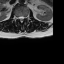CCS_normal: (20, 14, 22, 24)
LFS_stenosis: (24, 15, 26, 20)
LLS_normal: (22, 14, 24, 21)
RFS_normal: (16, 14, 18, 21)
RLS_normal: (18, 14, 20, 21)
